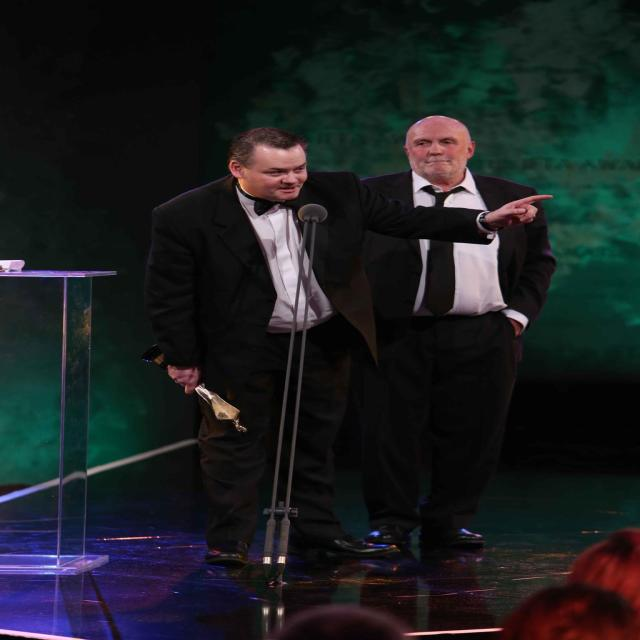Face: (406, 117, 479, 186), (231, 146, 322, 201)
